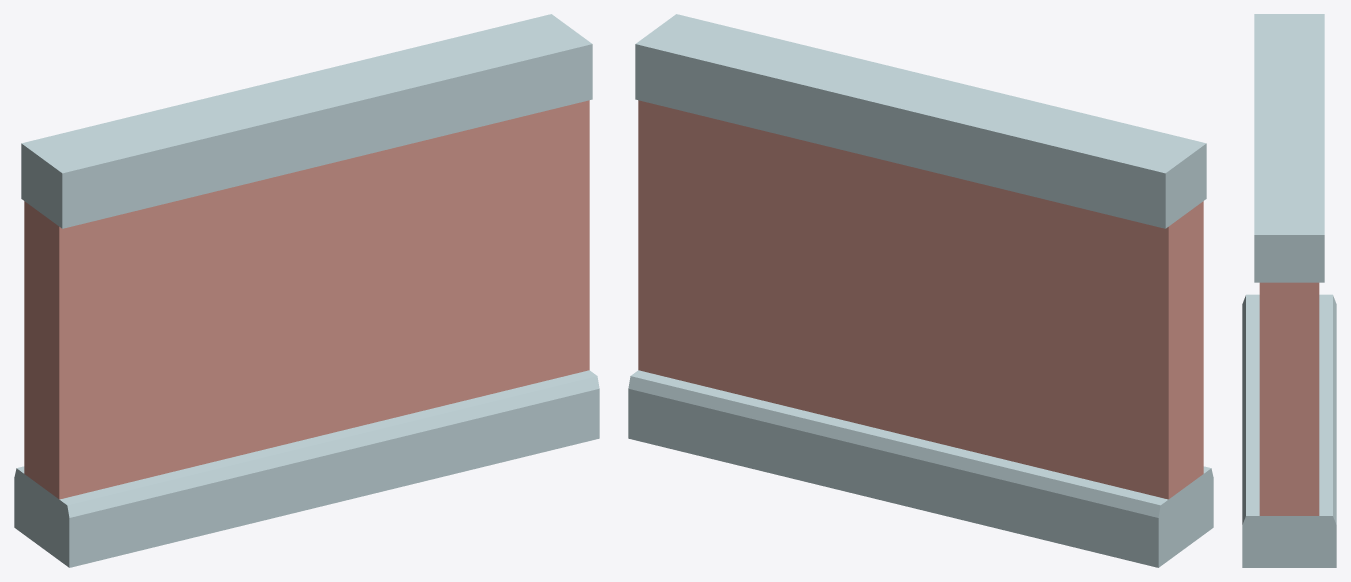
The model's file is brickWall.glb.
3 renders of one model, left to right at view 1: azimuth 30°, elevation 25°; view 2: azimuth 150°, elevation 25°; view 3: azimuth 270°, elevation 25°, orthographic. The views are drawn at different scales.
Parts seen in each view (by area): view 1: brickWall; view 2: brickWall; view 3: brickWall.
Part boxes in pixels (bbox=[...]): brickWall: bbox=[14, 14, 599, 567]; brickWall: bbox=[628, 14, 1213, 567]; brickWall: bbox=[1242, 14, 1336, 567].
Bounding box in the file's own units: 1 × 0.7019 × 0.18.
